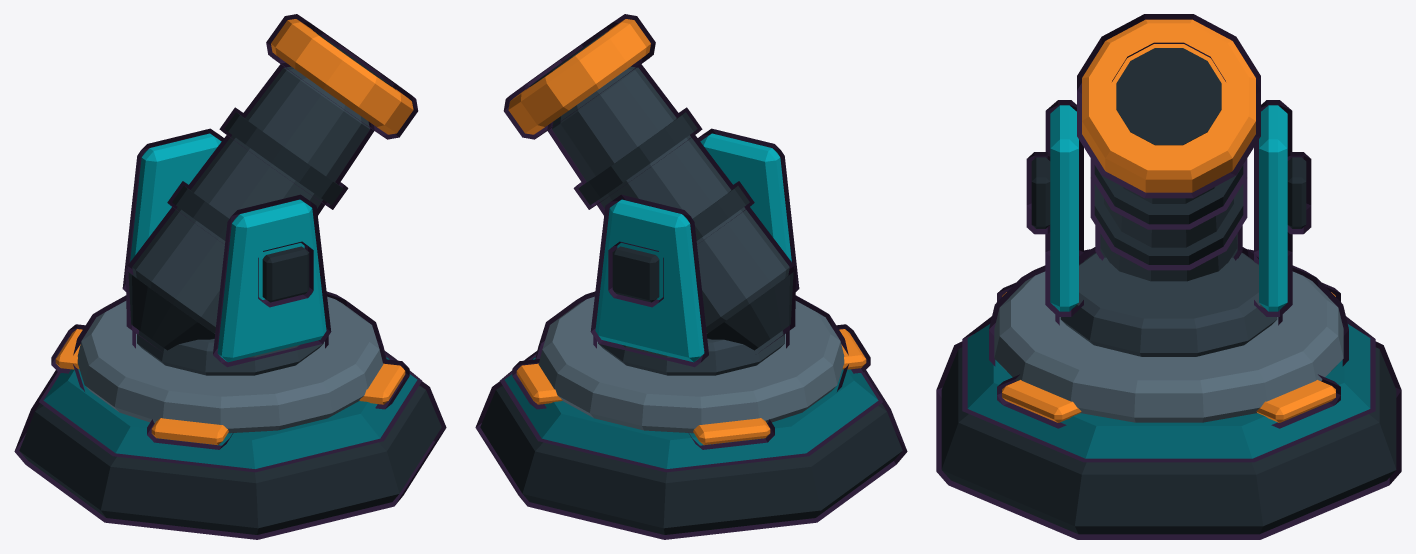
The model's file is Mortar.glb.
The picture shows the model from 3 angles, left to right: view 1: azimuth 30°, elevation 25°; view 2: azimuth 150°, elevation 25°; view 3: azimuth 270°, elevation 25°; orthographic projection. The views are drawn at different scales.
Parts seen in each view (by area): view 1: Mortar_GAME_Base, Mortar_GAME_Head; view 2: Mortar_GAME_Base, Mortar_GAME_Head; view 3: Mortar_GAME_Base, Mortar_GAME_Head.
Boxes of the visible parts, bbox=[...] form: Mortar_GAME_Base: bbox=[14, 291, 446, 539]; Mortar_GAME_Head: bbox=[122, 14, 418, 375]; Mortar_GAME_Base: bbox=[475, 291, 907, 539]; Mortar_GAME_Head: bbox=[503, 14, 799, 375]; Mortar_GAME_Base: bbox=[936, 249, 1401, 539]; Mortar_GAME_Head: bbox=[1026, 14, 1311, 356].
Bounding box in the file's own units: 0.9816 × 1.1 × 0.9816.
